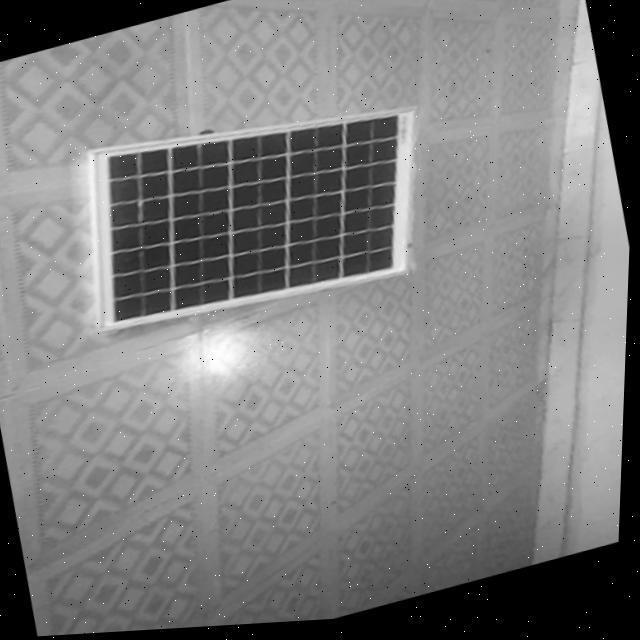Normal Solar Panel: (66, 66, 448, 354)
